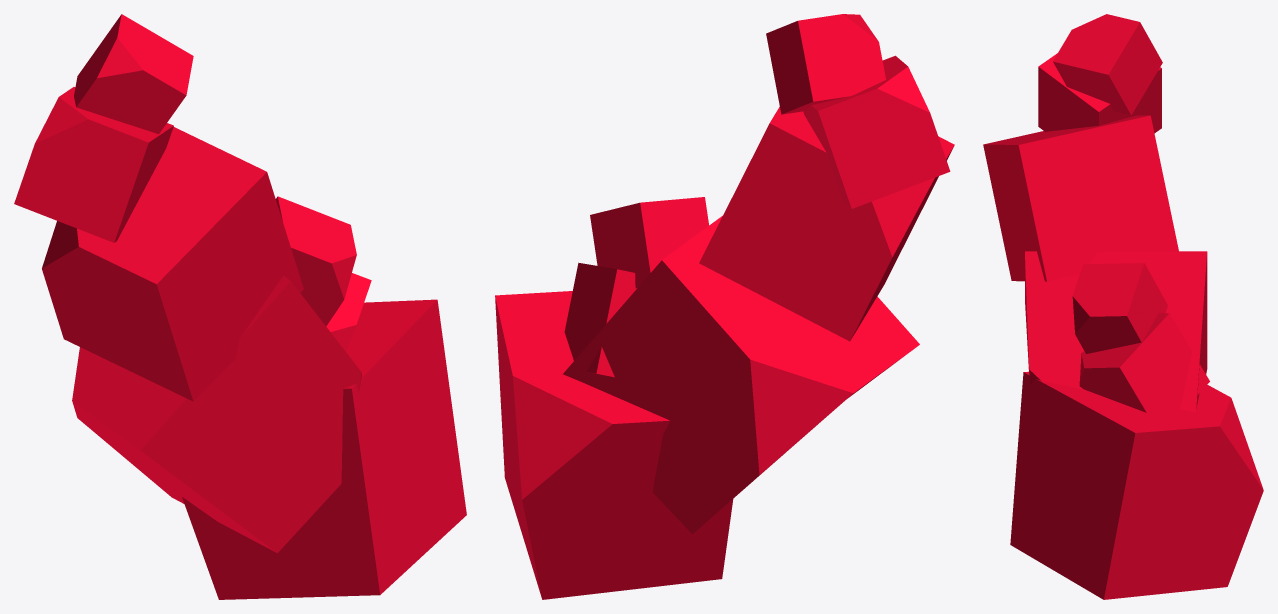
Rendered from RockPile025.fbx.
3 renders of one model, left to right at view 1: azimuth 30°, elevation 25°; view 2: azimuth 150°, elevation 25°; view 3: azimuth 270°, elevation 25°, orthographic. The views are drawn at different scales.
Visible parts, largest first — view 1: RockPile025; view 2: RockPile025; view 3: RockPile025.
Boxes of the visible parts, x1,y1,x2,y2 form: RockPile025: (14, 14, 466, 599); RockPile025: (495, 14, 954, 599); RockPile025: (983, 14, 1263, 599).
Size of the model in its own units: 107 by 71.43 by 136.
